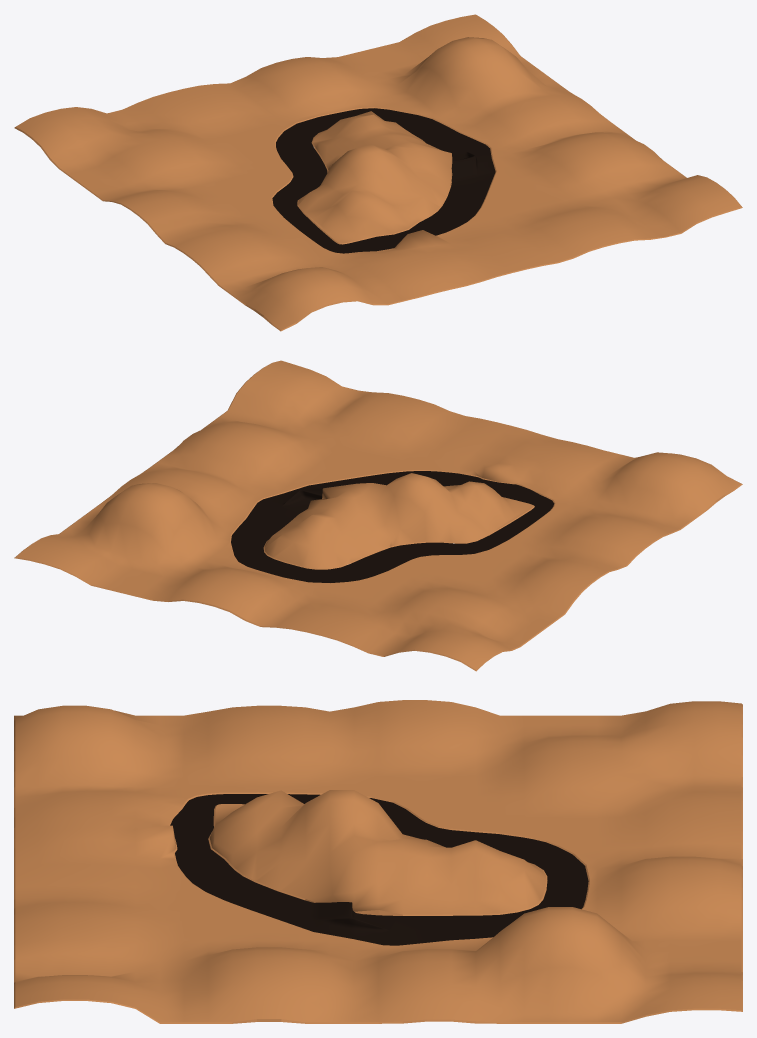
Rendered from desert.FBX.
3 views of the same model, one above another, from view 1: azimuth 30°, elevation 25°; view 2: azimuth 150°, elevation 25°; view 3: azimuth 270°, elevation 25° (orthographic). The views are drawn at different scales.
Visible parts, largest first — view 1: Plane031, Plane030; view 2: Plane031, Plane030; view 3: Plane031, Plane030.
Part boxes in pixels (box(x1,y1,x2,y2)): Plane031: box(14, 14, 742, 331); Plane030: box(272, 108, 495, 253); Plane031: box(14, 360, 742, 671); Plane030: box(231, 471, 554, 582); Plane031: box(14, 700, 742, 1023); Plane030: box(170, 794, 588, 945).
Bounding box in the file's own units: 59055 × 5868 × 59055.
